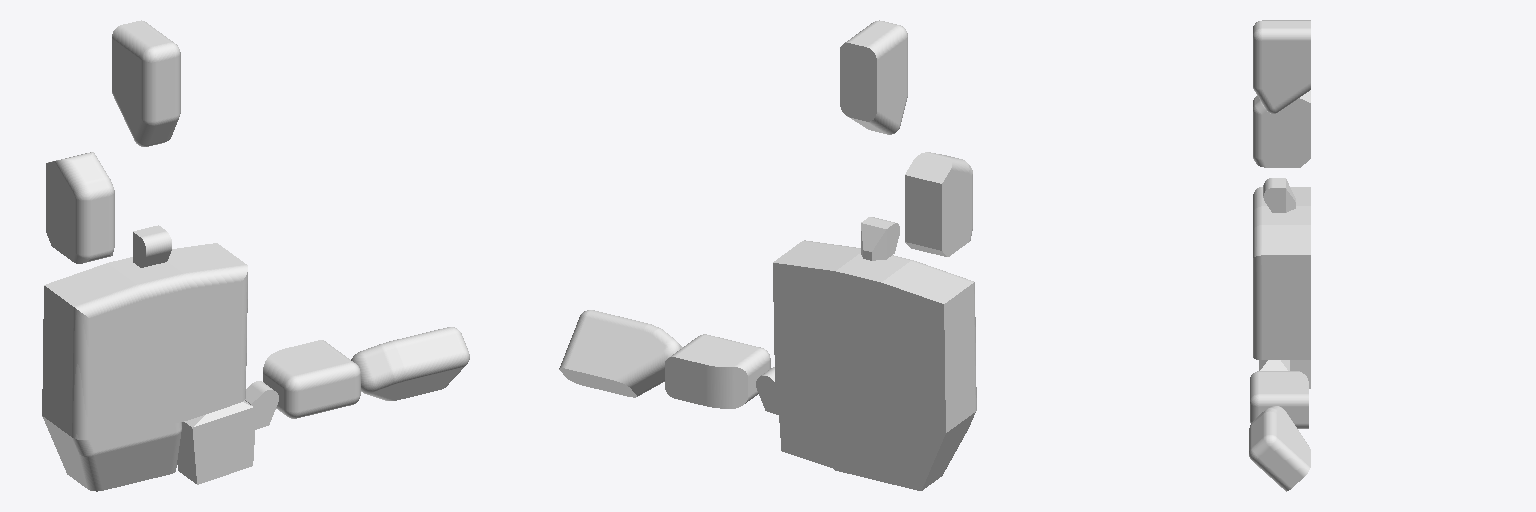
robot.urdf — hypnos_hand:
<?xml version="1.0" encoding="utf-8"?>
<robot name="hypnos_hand">
  <!-- Base link - palm -->
  <link name="base_link">
    <inertial>
      <mass value="0.1"/>
      <origin rpy="0 0 0" xyz="0 0 0"/>
      <inertia ixx="0.001" ixy="0" ixz="0" iyy="0.001" iyz="0" izz="0.001"/>
    </inertial>
    <visual>
      <geometry>
        <mesh filename="../stls/palm.stl" scale="0.001 0.001 0.001"/>
      </geometry>
      <origin rpy="0 0 0" xyz="0 0 0"/>
      <material name="palm_material">
        <color rgba="0.93 0.93 0.93 1"/>
      </material>
    </visual>
    <collision>
      <geometry>
        <mesh filename="../stls/palm.stl" scale="0.001 0.001 0.001"/>
      </geometry>
      <origin rpy="0 0 0" xyz="0 0 0"/>
    </collision>
  </link>

  <!-- Palm fix - fixed part of the palm -->
  <link name="palm_fix">
    <inertial>
      <mass value="0.01"/>
      <origin rpy="0 0 0" xyz="0 0 0"/>
      <inertia ixx="0.0001" ixy="0" ixz="0" iyy="0.0001" iyz="0" izz="0.0001"/>
    </inertial>
    <visual>
      <geometry>
        <mesh filename="../stls/palm_fix.stl" scale="0.001 0.001 0.001"/>
      </geometry>
      <origin rpy="0 0 0" xyz="0 0 0"/>
      <material name="palm_fix_material">
        <color rgba="0.93 0.93 0.93 1"/>
      </material>
    </visual>
    <collision>
      <geometry>
        <mesh filename="../stls/palm_fix.stl" scale="0.001 0.001 0.001"/>
      </geometry>
      <origin rpy="0 0 0" xyz="0 0 0"/>
    </collision>
  </link>

  <joint name="palm_fix_joint" type="fixed">
    <parent link="base_link"/>
    <child link="palm_fix"/>
    <origin rpy="0 0 0" xyz="0 0 0"/>
  </joint>

  <!-- THUMB FINGER -->
  <!-- Thumb ROOT -->
  <link name="tmb_ROOT">
    <inertial>
      <mass value="0.01"/>
      <origin rpy="0 0 0" xyz="0 0 0"/>
      <inertia ixx="0.0001" ixy="0" ixz="0" iyy="0.0001" iyz="0" izz="0.0001"/>
    </inertial>
    <visual>
      <geometry>
        <mesh filename="../stls/tmb_ROOT.stl" scale="0.001 0.001 0.001"/>
      </geometry>
      <origin rpy="0 0 0" xyz="0 0 0"/>
      <material name="thumb_material">
        <color rgba="0.93 0.93 0.93 1"/>
      </material>
    </visual>
    <collision>
      <geometry>
        <mesh filename="../stls/tmb_ROOT.stl" scale="0.001 0.001 0.001"/>
      </geometry>
      <origin rpy="0 0 0" xyz="0 0 0"/>
    </collision>
  </link>

  <joint name="jot_tmb_ROOT" type="revolute">
    <parent link="base_link"/>
    <child link="tmb_ROOT"/>
    <origin rpy="0 0 0" xyz="0.033278 0.011 0.009418"/>
    <axis xyz="-0.0875 0 1"/>
    <limit effort="10" lower="-2.02" upper="0.202" velocity="3.14"/>
  </joint>

  <!-- Thumb AXIS -->
  <link name="tmb_AXIS">
    <inertial>
      <mass value="0.01"/>
      <origin rpy="0 0 0" xyz="0 0 0"/>
      <inertia ixx="0.0001" ixy="0" ixz="0" iyy="0.0001" iyz="0" izz="0.0001"/>
    </inertial>
    <visual>
      <geometry>
        <mesh filename="../stls/tmb_AXIS.stl" scale="0.001 0.001 0.001"/>
      </geometry>
      <origin rpy="0 0 0" xyz="0 0 0"/>
      <material name="thumb_material"/>
    </visual>
    <collision>
      <geometry>
        <mesh filename="../stls/tmb_AXIS.stl" scale="0.001 0.001 0.001"/>
      </geometry>
      <origin rpy="0 0 0" xyz="0 0 0"/>
    </collision>
  </link>

  <joint name="jot_tmb_AXIS" type="revolute">
    <parent link="tmb_ROOT"/>
    <child link="tmb_AXIS"/>
    <origin rpy="0 0 0" xyz="0.011495 0 -0.010416"/>
    <axis xyz="-1 0 -0.0875"/>
    <limit effort="10" lower="-0.202" upper="1.02" velocity="3.14"/>
  </joint>

  <!-- Thumb MF (Middle Finger) -->
  <link name="tmb_MF">
    <inertial>
      <mass value="0.01"/>
      <origin rpy="0 0 0" xyz="0 0 0"/>
      <inertia ixx="0.0001" ixy="0" ixz="0" iyy="0.0001" iyz="0" izz="0.0001"/>
    </inertial>
    <visual>
      <geometry>
        <mesh filename="../stls/tmb_MF.stl" scale="0.001 0.001 0.001"/>
      </geometry>
      <origin rpy="0 0 0" xyz="0 0 0"/>
      <material name="thumb_material"/>
    </visual>
    <collision>
      <geometry>
        <mesh filename="../stls/tmb_MF.stl" scale="0.001 0.001 0.001"/>
      </geometry>
      <origin rpy="0 0 0" xyz="0 0 0"/>
    </collision>
  </link>

  <joint name="jot_tmb_MF" type="revolute">
    <parent link="tmb_AXIS"/>
    <child link="tmb_MF"/>
    <origin rpy="0 0 0" xyz="0.031554 -0.012560 0.006266"/>
    <axis xyz="0 1 0"/>
    <limit effort="10" lower="-1.57" upper="0.42" velocity="3.14"/>
  </joint>

  <!-- Thumb DF (Distal Finger) -->
  <link name="tmb_DF">
    <inertial>
      <mass value="0.01"/>
      <origin rpy="0 0 0" xyz="0 0 0"/>
      <inertia ixx="0.0001" ixy="0" ixz="0" iyy="0.0001" iyz="0" izz="0.0001"/>
    </inertial>
    <visual>
      <geometry>
        <mesh filename="../stls/tmb_DF.stl" scale="0.001 0.001 0.001"/>
      </geometry>
      <origin rpy="0 0 0" xyz="0 0 0"/>
      <material name="thumb_material"/>
    </visual>
    <collision>
      <geometry>
        <mesh filename="../stls/tmb_DF.stl" scale="0.001 0.001 0.001"/>
      </geometry>
      <origin rpy="0 0 0" xyz="0 0 0"/>
    </collision>
  </link>

  <joint name="jot_tmb_DF" type="revolute">
    <parent link="tmb_MF"/>
    <child link="tmb_DF"/>
    <origin rpy="0 0 0" xyz="0.051366 0.004099 0.006644"/>
    <axis xyz="0 1 1"/>
    <limit effort="10" lower="-1.33" upper="0.152" velocity="3.14"/>
  </joint>

  <!-- Thumb tip -->
  <link name="tmb_tip">
    <inertial>
      <mass value="0.001"/>
      <origin rpy="0 0 0" xyz="0 0 0"/>
      <inertia ixx="0.00001" ixy="0" ixz="0" iyy="0.00001" iyz="0" izz="0.00001"/>
    </inertial>
  </link>

  <joint name="tmb_tip_joint" type="fixed">
    <parent link="tmb_DF"/>
    <child link="tmb_tip"/>
    <origin rpy="0 0 0" xyz="0 0 0.026"/>
  </joint>

  <!-- MIDDLE FINGER -->
  <!-- Middle ABD (Abduction) -->
  <link name="mid_ABD">
    <inertial>
      <mass value="0.01"/>
      <origin rpy="0 0 0" xyz="0 0 0"/>
      <inertia ixx="0.0001" ixy="0" ixz="0" iyy="0.0001" iyz="0" izz="0.0001"/>
    </inertial>
    <visual>
      <geometry>
        <mesh filename="../stls/mid_ABD.stl" scale="0.001 0.001 0.001"/>
      </geometry>
      <origin rpy="0 0 0" xyz="0 0 0"/>
      <material name="middle_material">
        <color rgba="0.93 0.93 0.93 1"/>
      </material>
    </visual>
    <collision>
      <geometry>
        <mesh filename="../stls/mid_ABD.stl" scale="0.001 0.001 0.001"/>
      </geometry>
      <origin rpy="0 0 0" xyz="0 0 0"/>
    </collision>
  </link>

  <joint name="jot_mid_ABD" type="revolute">
    <parent link="base_link"/>
    <child link="mid_ABD"/>
    <origin rpy="0 0 0" xyz="0 0.0105 0.0866"/>
    <axis xyz="0 1 0"/>
    <limit effort="10" lower="-0.26" upper="0.26" velocity="3.14"/>
  </joint>

  <!-- Middle MF (Middle Finger) -->
  <link name="mid_MF">
    <inertial>
      <mass value="0.01"/>
      <origin rpy="0 0 0" xyz="0 0 0"/>
      <inertia ixx="0.0001" ixy="0" ixz="0" iyy="0.0001" iyz="0" izz="0.0001"/>
    </inertial>
    <visual>
      <geometry>
        <mesh filename="../stls/mid_MF.stl" scale="0.001 0.001 0.001"/>
      </geometry>
      <origin rpy="0 0 0" xyz="0 0 0"/>
      <material name="middle_material"/>
    </visual>
    <collision>
      <geometry>
        <mesh filename="../stls/mid_MF.stl" scale="0.001 0.001 0.001"/>
      </geometry>
      <origin rpy="0 0 0" xyz="0 0 0"/>
    </collision>
  </link>

  <joint name="jot_mid_MF" type="revolute">
    <parent link="mid_ABD"/>
    <child link="mid_MF"/>
    <origin rpy="0 0 0" xyz="0 -0.0105 0.02314"/>
    <axis xyz="1 0 0"/>
    <limit effort="10" lower="0" upper="1.57" velocity="3.14"/>
  </joint>

  <!-- Middle DF (Distal Finger) -->
  <link name="mid_DF">
    <inertial>
      <mass value="0.01"/>
      <origin rpy="0 0 0" xyz="0 0 0"/>
      <inertia ixx="0.0001" ixy="0" ixz="0" iyy="0.0001" iyz="0" izz="0.0001"/>
    </inertial>
    <visual>
      <geometry>
        <mesh filename="../stls/mid_DF.stl" scale="0.001 0.001 0.001"/>
      </geometry>
      <origin rpy="0 0 0" xyz="0 0 0"/>
      <material name="middle_material"/>
    </visual>
    <collision>
      <geometry>
        <mesh filename="../stls/mid_DF.stl" scale="0.001 0.001 0.001"/>
      </geometry>
      <origin rpy="0 0 0" xyz="0 0 0"/>
    </collision>
  </link>

  <joint name="jot_mid_DF" type="revolute">
    <parent link="mid_MF"/>
    <child link="mid_DF"/>
    <origin rpy="0 0 0" xyz="0 0 0.052206"/>
    <axis xyz="1 0 0"/>
    <limit effort="10" lower="-0.15" upper="1.52" velocity="3.14"/>
  </joint>

  <!-- Middle tip -->
  <link name="mid_tip">
    <inertial>
      <mass value="0.001"/>
      <origin rpy="0 0 0" xyz="0 0 0"/>
      <inertia ixx="0.00001" ixy="0" ixz="0" iyy="0.00001" iyz="0" izz="0.00001"/>
    </inertial>
  </link>

  <joint name="mid_tip_joint" type="fixed">
    <parent link="mid_DF"/>
    <child link="mid_tip"/>
    <origin rpy="0 0 0" xyz="0 0 0.026"/>
  </joint>

  <!-- INDEX FINGER -->
  <!-- Index ABD (Abduction) -->
  <link name="idx_ABD">
    <inertial>
      <mass value="0.01"/>
      <origin rpy="0 0 0" xyz="0 0 0"/>
      <inertia ixx="0.0001" ixy="0" ixz="0" iyy="0.0001" iyz="0" izz="0.0001"/>
    </inertial>
    <visual>
      <geometry>
        <mesh filename="../stls/idx_ABD.stl" scale="0.001 0.001 0.001"/>
      </geometry>
      <origin rpy="0 0 0" xyz="0 0 0"/>
      <material name="index_material">
        <color rgba="0.93 0.93 0.93 1"/>
      </material>
    </visual>
    <collision>
      <geometry>
        <mesh filename="../stls/idx_ABD.stl" scale="0.001 0.001 0.001"/>
      </geometry>
      <origin rpy="0 0 0" xyz="0 0 0"/>
    </collision>
  </link>

  <joint name="jot_idx_ABD" type="revolute">
    <parent link="base_link"/>
    <child link="idx_ABD"/>
    <origin rpy="0 0 0" xyz="0.031527 0.0105 0.08389"/>
    <axis xyz="0 1 0"/>
    <limit effort="10" lower="-0.26" upper="0.26" velocity="3.14"/>
  </joint>

  <!-- Index MF (Middle Finger) -->
  <link name="idx_MF">
    <inertial>
      <mass value="0.01"/>
      <origin rpy="0 0 0" xyz="0 0 0"/>
      <inertia ixx="0.0001" ixy="0" ixz="0" iyy="0.0001" iyz="0" izz="0.0001"/>
    </inertial>
    <visual>
      <geometry>
        <mesh filename="../stls/idx_MF.stl" scale="0.001 0.001 0.001"/>
      </geometry>
      <origin rpy="0 0 0" xyz="0 0 0"/>
      <material name="index_material"/>
    </visual>
    <collision>
      <geometry>
        <mesh filename="../stls/idx_MF.stl" scale="0.001 0.001 0.001"/>
      </geometry>
      <origin rpy="0 0 0" xyz="0 0 0"/>
    </collision>
  </link>

  <joint name="jot_idx_MF" type="revolute">
    <parent link="idx_ABD"/>
    <child link="idx_MF"/>
    <origin rpy="0 0 0" xyz="0 -0.0105 0.02314"/>
    <axis xyz="1 0 0"/>
    <limit effort="10" lower="0" upper="1.57" velocity="3.14"/>
  </joint>

  <!-- Index DF (Distal Finger) -->
  <link name="idx_DF">
    <inertial>
      <mass value="0.01"/>
      <origin rpy="0 0 0" xyz="0 0 0"/>
      <inertia ixx="0.0001" ixy="0" ixz="0" iyy="0.0001" iyz="0" izz="0.0001"/>
    </inertial>
    <visual>
      <geometry>
        <mesh filename="../stls/idx_DF.stl" scale="0.001 0.001 0.001"/>
      </geometry>
      <origin rpy="0 0 0" xyz="0 0 0"/>
      <material name="index_material"/>
    </visual>
    <collision>
      <geometry>
        <mesh filename="../stls/idx_DF.stl" scale="0.001 0.001 0.001"/>
      </geometry>
      <origin rpy="0 0 0" xyz="0 0 0"/>
    </collision>
  </link>

  <joint name="jot_idx_DF" type="revolute">
    <parent link="idx_MF"/>
    <child link="idx_DF"/>
    <origin rpy="0 0 0" xyz="0 0 0.052206"/>
    <axis xyz="1 0 0"/>
    <limit effort="10" lower="-0.15" upper="1.52" velocity="3.14"/>
  </joint>

  <!-- Index tip -->
  <link name="idx_tip">
    <inertial>
      <mass value="0.001"/>
      <origin rpy="0 0 0" xyz="0 0 0"/>
      <inertia ixx="0.00001" ixy="0" ixz="0" iyy="0.00001" iyz="0" izz="0.00001"/>
    </inertial>
  </link>

  <joint name="idx_tip_joint" type="fixed">
    <parent link="idx_DF"/>
    <child link="idx_tip"/>
    <origin rpy="0 0 0" xyz="0 0 0.026"/>
  </joint>

  <!-- RING FINGER -->
  <!-- Ring ABD (Abduction) -->
  <link name="rng_ABD">
    <inertial>
      <mass value="0.01"/>
      <origin rpy="0 0 0" xyz="0 0 0"/>
      <inertia ixx="0.0001" ixy="0" ixz="0" iyy="0.0001" iyz="0" izz="0.0001"/>
    </inertial>
    <visual>
      <geometry>
        <mesh filename="../stls/rng_ABD.stl" scale="0.001 0.001 0.001"/>
      </geometry>
      <origin rpy="0 0 0" xyz="0 0 0"/>
      <material name="ring_material">
        <color rgba="0.93 0.93 0.93 1"/>
      </material>
    </visual>
    <collision>
      <geometry>
        <mesh filename="../stls/rng_ABD.stl" scale="0.001 0.001 0.001"/>
      </geometry>
      <origin rpy="0 0 0" xyz="0 0 0"/>
    </collision>
  </link>

  <joint name="jot_rng_ABD" type="revolute">
    <parent link="base_link"/>
    <child link="rng_ABD"/>
    <origin rpy="0 0 0" xyz="-0.031527 0.0105 0.08389"/>
    <axis xyz="0 1 0"/>
    <limit effort="10" lower="-0.26" upper="0.26" velocity="3.14"/>
  </joint>

  <!-- Ring MF (Middle Finger) -->
  <link name="rng_MF">
    <inertial>
      <mass value="0.01"/>
      <origin rpy="0 0 0" xyz="0 0 0"/>
      <inertia ixx="0.0001" ixy="0" ixz="0" iyy="0.0001" iyz="0" izz="0.0001"/>
    </inertial>
    <visual>
      <geometry>
        <mesh filename="../stls/rng_MF.stl" scale="0.001 0.001 0.001"/>
      </geometry>
      <origin rpy="0 0 0" xyz="0 0 0"/>
      <material name="ring_material"/>
    </visual>
    <collision>
      <geometry>
        <mesh filename="../stls/rng_MF.stl" scale="0.001 0.001 0.001"/>
      </geometry>
      <origin rpy="0 0 0" xyz="0 0 0"/>
    </collision>
  </link>

  <joint name="jot_rng_MF" type="revolute">
    <parent link="rng_ABD"/>
    <child link="rng_MF"/>
    <origin rpy="0 0 0" xyz="0 -0.0105 0.02314"/>
    <axis xyz="1 0 0"/>
    <limit effort="10" lower="0" upper="1.57" velocity="3.14"/>
  </joint>

  <!-- Ring DF (Distal Finger) -->
  <link name="rng_DF">
    <inertial>
      <mass value="0.01"/>
      <origin rpy="0 0 0" xyz="0 0 0"/>
      <inertia ixx="0.0001" ixy="0" ixz="0" iyy="0.0001" iyz="0" izz="0.0001"/>
    </inertial>
    <visual>
      <geometry>
        <mesh filename="../stls/rng_DF.stl" scale="0.001 0.001 0.001"/>
      </geometry>
      <origin rpy="0 0 0" xyz="0 0 0"/>
      <material name="ring_material"/>
    </visual>
    <collision>
      <geometry>
        <mesh filename="../stls/rng_DF.stl" scale="0.001 0.001 0.001"/>
      </geometry>
      <origin rpy="0 0 0" xyz="0 0 0"/>
    </collision>
  </link>

  <joint name="jot_rng_DF" type="revolute">
    <parent link="rng_MF"/>
    <child link="rng_DF"/>
    <origin rpy="0 0 0" xyz="0 0 0.052206"/>
    <axis xyz="1 0 0"/>
    <limit effort="10" lower="-0.15" upper="1.52" velocity="3.14"/>
  </joint>

  <!-- Ring tip -->
  <link name="rng_tip">
    <inertial>
      <mass value="0.001"/>
      <origin rpy="0 0 0" xyz="0 0 0"/>
      <inertia ixx="0.00001" ixy="0" ixz="0" iyy="0.00001" iyz="0" izz="0.00001"/>
    </inertial>
  </link>

  <joint name="rng_tip_joint" type="fixed">
    <parent link="rng_DF"/>
    <child link="rng_tip"/>
    <origin rpy="0 0 0" xyz="0 0 0.026"/>
  </joint>
</robot> 

--- Render facts (derived) ---
3 views of the same robot in one strip: view 1: azimuth 30°, elevation 25°; view 2: azimuth 150°, elevation 25°; view 3: azimuth 270°, elevation 25° (orthographic).
Robot: hypnos_hand — 19 links, 18 joints (13 revolute, 5 fixed); root link base_link; default pose: all joints at 0.
Visible links, largest first — view 1: base_link, mid_DF, rng_MF, palm_fix, tmb_DF, tmb_MF, tmb_ROOT, mid_ABD, tmb_AXIS; view 2: base_link, tmb_DF, palm_fix, mid_DF, rng_MF, tmb_MF, tmb_ROOT, mid_ABD, tmb_AXIS; view 3: base_link, mid_DF, rng_MF, tmb_DF, tmb_MF, mid_ABD.
Link boxes in pixels (x1,y1,x2,y2): base_link: (42,243,247,439); mid_DF: (112,20,180,146); rng_MF: (46,152,114,263); palm_fix: (42,416,181,491); tmb_DF: (351,327,469,400); tmb_MF: (263,340,360,418); tmb_ROOT: (177,400,255,484); mid_ABD: (133,225,171,267); tmb_AXIS: (245,381,278,429); base_link: (773,240,976,432); tmb_DF: (559,310,682,397); palm_fix: (834,412,975,490); mid_DF: (840,20,907,134); rng_MF: (905,152,972,256); tmb_MF: (665,334,770,408); tmb_ROOT: (779,394,838,468); mid_ABD: (861,217,899,260); tmb_AXIS: (756,367,780,414); base_link: (1253,187,1310,359); mid_DF: (1253,20,1310,113); rng_MF: (1253,90,1310,167); tmb_DF: (1249,406,1310,491); tmb_MF: (1250,371,1308,428); mid_ABD: (1263,178,1295,212).
Bounding box of the posed robot: 0.1887 × 0.0315 × 0.2044 m (x, y, z).
9 mesh visuals loaded from 15 distinct referenced files (9 binary STL); not drawn: 6 (reference not matched to a file when rendering).
